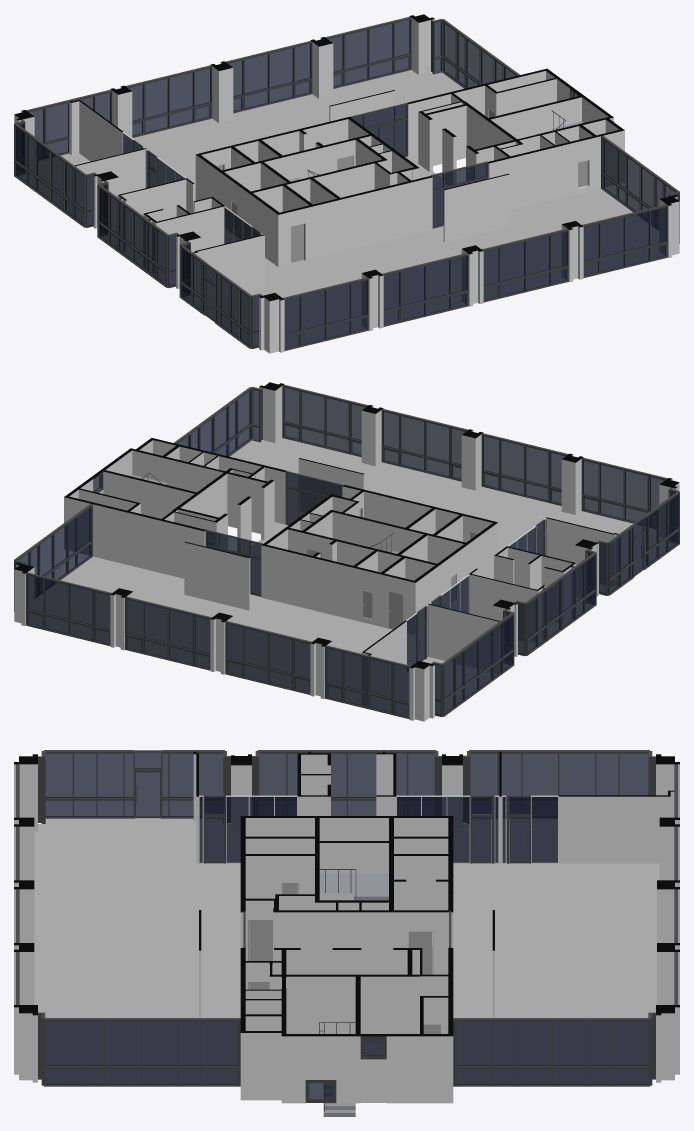
3 views of the same model, one above another, from view 1: azimuth 30°, elevation 25°; view 2: azimuth 150°, elevation 25°; view 3: azimuth 270°, elevation 25° (orthographic). The views are drawn at different scales.
Visible parts, largest first — view 1: 8F, Shape089, Line066, Plane116, Rectangle154; view 2: 8F, Shape089, Line066, Plane116, Rectangle154; view 3: Line066, 8F, Shape089, Plane116, stair110, Box3168, stair111.
Boxes of the visible parts, <box> form: 8F: <box>14,16,679,350</box>; Shape089: <box>14,14,679,353</box>; Line066: <box>19,70,664,347</box>; Plane116: <box>69,90,509,304</box>; Rectangle154: <box>405,154,447,225</box>; 8F: <box>14,384,679,718</box>; Shape089: <box>14,382,679,721</box>; Line066: <box>29,438,674,715</box>; Plane116: <box>184,458,618,706</box>; Rectangle154: <box>246,522,288,593</box>; Line066: <box>34,818,659,1083</box>; 8F: <box>16,750,677,1102</box>; Shape089: <box>14,754,679,1103</box>; Plane116: <box>193,751,674,1017</box>; stair110: <box>319,869,388,900</box>; Box3168: <box>305,1034,336,1079</box>; stair111: <box>319,1022,355,1116</box>.
Bounding box in the file's own units: 27.4 × 4.61 × 26.95.
7 materials, 1 textured.
